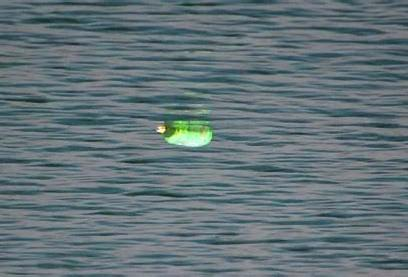Plastic: (157, 124, 214, 147)
